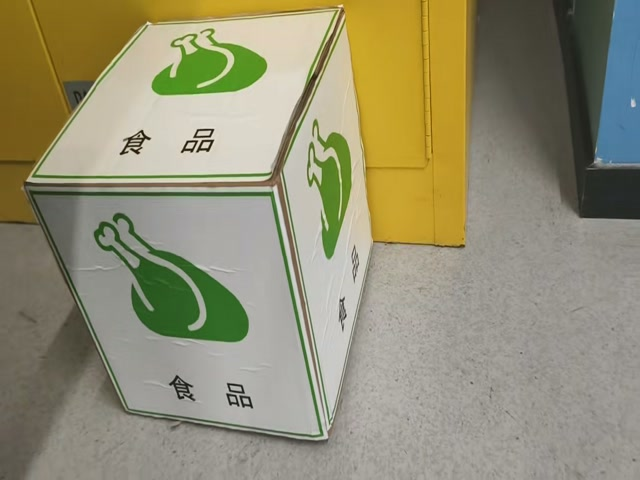Cube_food: (26, 8, 343, 195)
